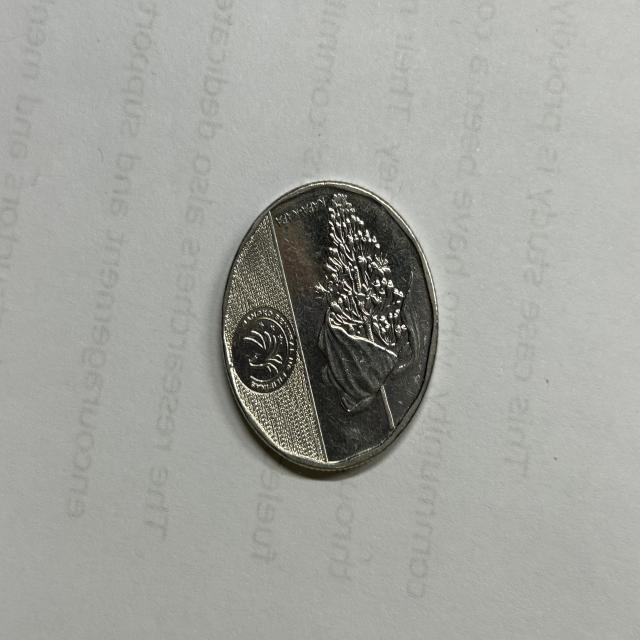10_New_Back: (310, 187, 418, 421)
